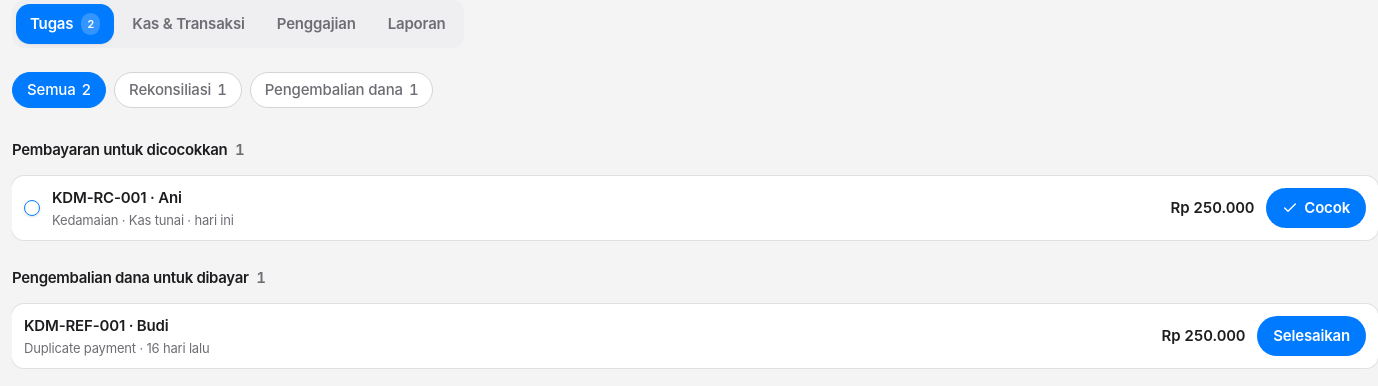
Scenario: FinanceWorkspace › does not reconcile when the tap is undone
What coordinates should you click on to do the following:
click the button "Cocok"
I would click on:
 (1316, 208)
Its box is [1266,188,1366,228].
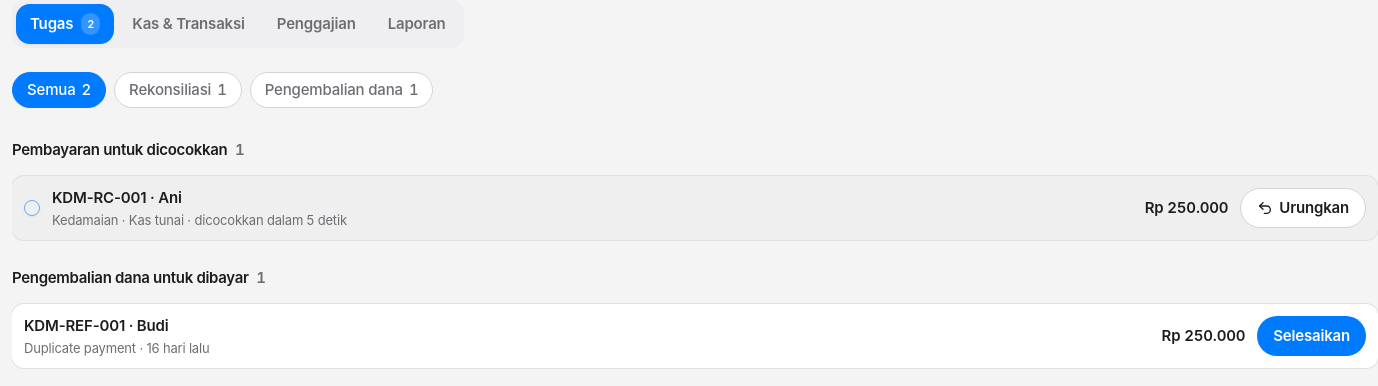
What coordinates should you click on to do the following:
click the button "Urungkan"
I would click on:
 (1303, 208)
Its box is [1240,188,1366,228].
Wait 10000 ms
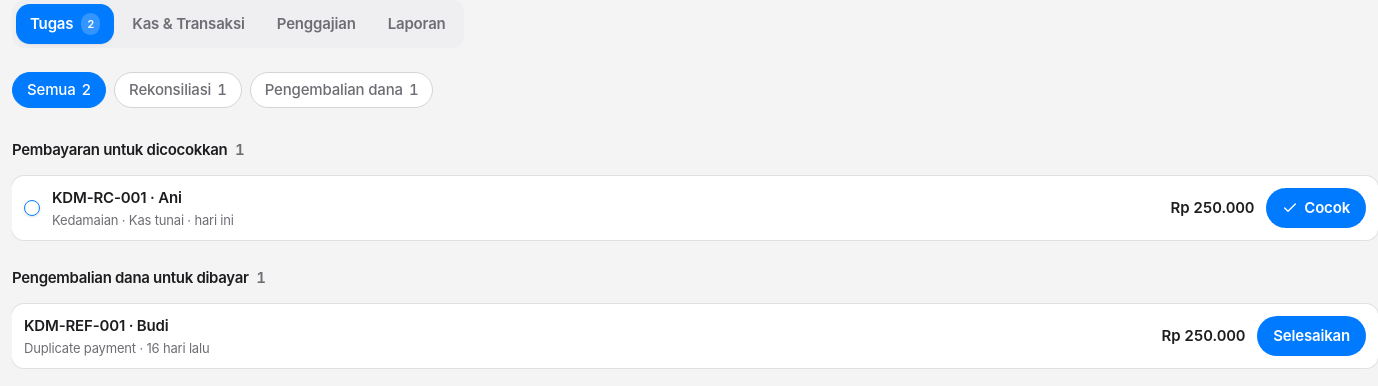
Expected: the button "Cocok" is shown, [1266,188,1366,228]
